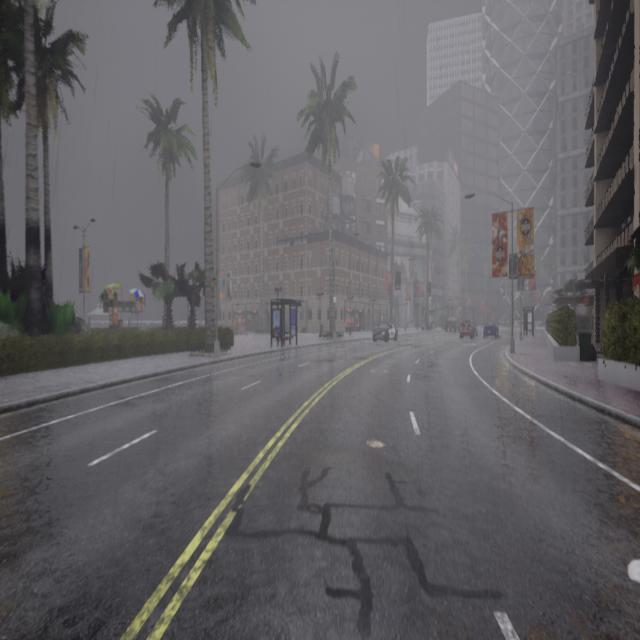9: (503, 290, 505, 299), (552, 298, 554, 306), (522, 291, 524, 299)
bien_hieu_lenh: (502, 295, 506, 299), (552, 302, 554, 306), (522, 294, 523, 298)
